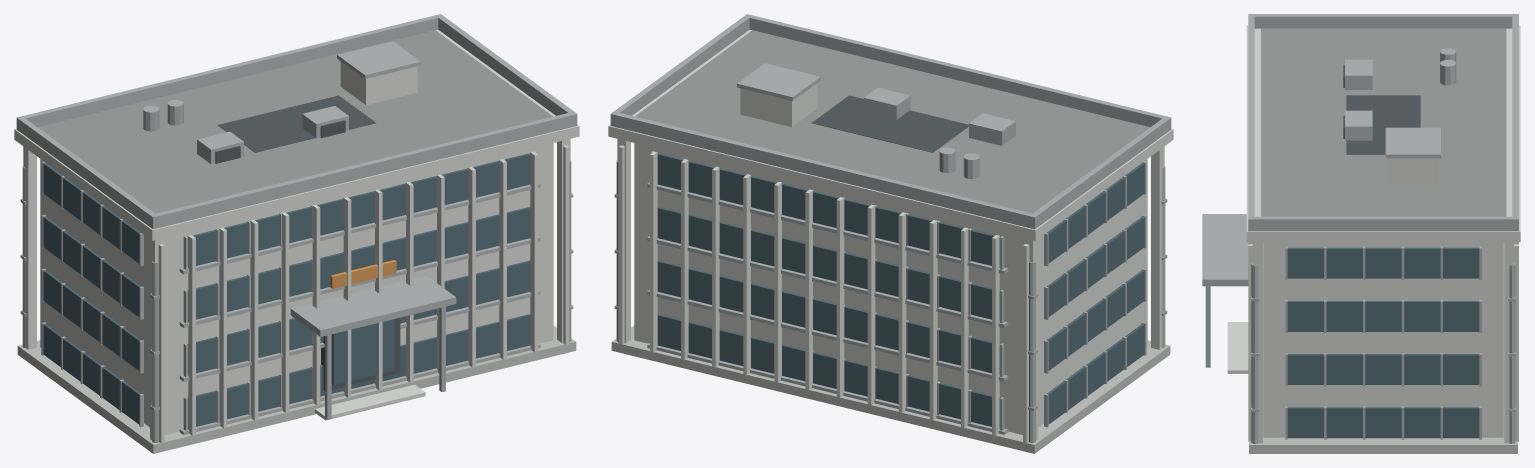
Rendered from steeloffice.glb.
The picture shows the model from 3 angles, left to right: view 1: azimuth 30°, elevation 25°; view 2: azimuth 150°, elevation 25°; view 3: azimuth 270°, elevation 25°; orthographic projection.
Parts seen in each view (by area): view 1: steeloffice; view 2: steeloffice; view 3: steeloffice.
Part boxes in pixels (left/top/right/bottom): steeloffice: left=14, top=14, right=579, bottom=453; steeloffice: left=608, top=14, right=1173, bottom=453; steeloffice: left=1202, top=14, right=1520, bottom=453.
Bounding box in the file's own units: 5.98 × 3.47 × 3.89.
